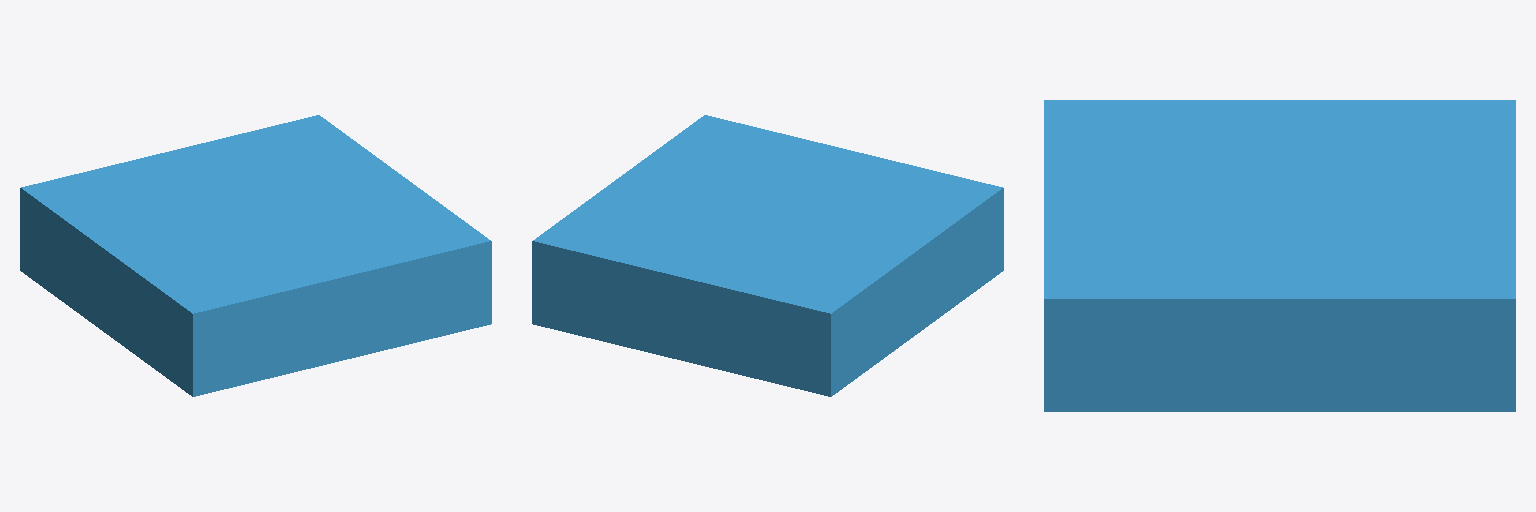
robot.urdf — pdd:
<?xml version="1.0" encoding="utf-8"?>
<!-- This URDF was automatically created by SolidWorks to URDF Exporter! Originally created by [author] ([email redacted]) 
     Commit Version: 1.6.0-4-g7f85cfe  Build Version: 1.6.7995.38578
     For more information, please see http://wiki.ros.org/sw_urdf_exporter -->
<robot name="pdd">

  <!-- <link name="world" />
  <joint name ="weld" type="fixed">
    <parent link="world"/>
    <child link="base_link"/>
    <origin xyz="0 0 0.1"/>
  </joint> -->
  <!-- <mujoco>
    <compiler meshdir="../meshes/" balanceinertia="true" discardvisual="false"/>
  </mujoco> -->

  <gazebo>
    <plugin name="gazebo_ros_control" filename="liblegged_hw_sim.so">
      <robotNamespace>/</robotNamespace>
      <robotParam>legged_robot_description</robotParam>
      <robotSimType>legged_gazebo/LeggedHWSim</robotSimType>
    </plugin>
  </gazebo>

  <gazebo>
    <plugin filename="libgazebo_ros_p3d.so" name="p3d_base_controller">
      <alwaysOn>true</alwaysOn>
      <updateRate>500.0</updateRate>
      <bodyName>base_link</bodyName>
      <topicName>ground_truth/state</topicName>
      <gaussianNoise>0</gaussianNoise>
      <frameName>world</frameName>
      <xyzOffsets>0 0 0</xyzOffsets>
      <rpyOffsets>0 0 0</rpyOffsets>
    </plugin>
  </gazebo>

  <link name="base_link">
    <inertial>
      <origin xyz="-0.010856 -0.000068 -0.007128" rpy="0 0 0" />
      <mass value="5.673631" />  
       <!-- <mass value="7.143631" />  -->
      <!-- <inertia ixx="0.034403" ixy="0.000004" ixz="-0.002587" iyy="0.029652" iyz="0.000024" izz="0.029462" /> -->
      <inertia ixx="0.034403" ixy="0.0" ixz="-0.0" iyy="0.029652" iyz="0.0" izz="0.029462" />

    </inertial>
    <visual>
      <origin xyz="0 0 0" rpy="0 0 0" />
      <geometry>
        <mesh 
        filename="../meshes/base_link.STL" />
      </geometry>
      <material name="">
        <color rgba="0.75294 0.75294 0.75294 1" />
      </material>
    </visual>
    <collision>
      <origin xyz="-0.01 0 -0.006" rpy="0 0 0" />
      <geometry>
        <box size="0.184 0.15 0.2" /><!--宽 长 高!-->
      </geometry>
    </collision>
  </link>

  <!-- Imu is fixed to the base link -->
  <joint name="imu_joint" type="fixed">
    <origin rpy="0. 0. 0." xyz="0. 0. 0"/>
    <parent link="base_link"/>
    <child link="imu_link"/>
  </joint>
  <!-- Imu link -->
  <link name="imu_link">
    <inertial>
      <mass value="0.01"/>
      <origin rpy="0 0 0" xyz="0 0 0"/>
      <inertia ixx="0.000001" ixy="0" ixz="0" iyy="0.000001" iyz="0" izz="0.000001"/>
    </inertial>
    <visual>
      <origin rpy="0 0 0" xyz="0 0 0"/>
      <geometry>
        <box size="0.015 0.015 0.004"/>
      </geometry>
    </visual>
    <material name="orange">
      <color rgba="255 108 10 255"/>
    </material>
  </link>
  <gazebo reference="imu_joint">
    <disableFixedJointLumping>true</disableFixedJointLumping>
  </gazebo>

  <!-- ************************************************************ -->
  <!-- ************************ Left Leg ************************** -->
  <!-- ************************************************************ -->

  <!-- ************* part 1 *************** -->
  <joint name="leg_l1_joint" type="revolute">
    <origin xyz="-0.002 0.09 -0.1035" rpy="0 0 0" />
    <parent link="base_link" />
    <child link="leg_l1_link" />
    <axis xyz="1 0 0" />
    <dynamics damping="0.0" friction="0.00" />
    <limit lower="-0.2" upper="0.5" effort="36" velocity="300" />
  </joint>
  <link name="leg_l1_link">
    <inertial>
      <origin xyz="0.002501 0.000053 -0.002722" rpy="0 0 0" />
      <mass value="0.453728" />
      <inertia ixx="0.000082" ixy="0.000000" ixz="0.000003" iyy="0.000163" iyz="0.000001" izz="0.000147" />
    </inertial>
    <visual>
      <origin xyz="0 0 0" rpy="0 0 0" />
      <geometry>
        <mesh filename="../meshes/leg_l1_link.STL" />
      </geometry>
      <material name="">
        <color rgba="0.75294 0.75294 0.75294 1" />
      </material>
    </visual>
    <!-- <collision>
      <origin xyz="-0.019 -0.001 0" rpy="1.57 0 1.57" />
      <geometry>
        <box size="0.06 0.07 0.155" />
      </geometry>
    </collision> -->
  </link>

  <!-- ************* part 2 *************** -->
  <joint name="leg_l2_joint" type="revolute">
    <origin xyz="0 -0.00016972 -0.0325" rpy="0 0 0" />
    <parent link="leg_l1_link" />
    <child link="leg_l2_link" />
    <axis xyz="0 0 1" />
    <dynamics damping="0.0" friction="0.00" />
    <limit lower="-0.5" upper="1" effort="36" velocity="300" />
  </joint>
  <link name="leg_l2_link">
    <inertial>
     <origin xyz="-0.000273 0.043826 -0.058639" rpy="0 0 0" />
      <mass value="0.925998" />
      <inertia ixx="0.001239" ixy="0.000004" ixz="0.000000" iyy="0.001646" iyz="0.000103" izz="0.001094" />
    </inertial>
    <visual>
      <origin xyz="0 0 0" rpy="0 0 0" />
      <geometry>
        <mesh filename="../meshes/leg_l2_link.STL" />
      </geometry>
      <material name="">
        <color rgba="0.75294 0.75294 0.75294 1" />
      </material>
    </visual>
    <collision>
      <origin xyz="0 0.0046 -0.057" rpy="1.57 0 0" />
      <geometry>
        <cylinder length="0.146" radius="0.065"/>
      </geometry>
    </collision>
  </link>

  <!-- ************* part 3 *************** -->
  <joint name="leg_l3_joint" type="revolute">
    <origin xyz="0 -0.01433 -0.0575" rpy="0 0 0" />
    <parent link="leg_l2_link" />
    <child link="leg_l3_link" />
    <axis xyz="0 1 0" />
    <dynamics damping="0.0" friction="0.00" />
    <limit lower="-0.8" upper="1.2" effort="94" velocity="300" />
  </joint>
  <link name="leg_l3_link">
    <inertial>
     <origin xyz="0.003163 -0.022552 -0.027258" rpy="0 0 0" />
      <mass value="1.390468" />
      <!-- <inertia ixx="0.006911" ixy="-0.000091" ixz="0.000427" iyy="0.007083" iyz="0.000844" izz="0.001984" /> -->
      <inertia ixx="0.006911" ixy="-0.000091" ixz="0.000427" iyy="0.007083" iyz="0.000844" izz="0.001984" />
    </inertial>
    <visual>
      <origin xyz="0 0 0" rpy="0 0 0" />
      <geometry>
        <mesh filename="../meshes/leg_l3_link.STL" />
      </geometry>
      <material name="">
        <color rgba="0.75294 0.75294 0.75294 1" />
      </material>
    </visual>
    <collision>
      <origin xyz="0.015 0.02 -0.1" rpy="1.57 0 0" />
      <geometry>
        <box size="0.06 0.25 0.05" />
      </geometry>
    </collision>
  </link>

  <!-- ************* part 4 *************** -->
  <joint name="leg_l4_joint" type="revolute">
    <origin xyz="0 0.0145 -0.24" rpy="0 0 0" />
    <parent link="leg_l3_link" />
    <child link="leg_l4_link" />
    <axis xyz="0 1 0" />
    <dynamics damping="0.0" friction="0.0" />
    <limit lower="0" upper="1.5" effort="94" velocity="300" />
  </joint>
  <link name="leg_l4_link">
    <inertial>
      <origin xyz="-0.012044 0.006361 -0.093905" rpy="0 0 0" />
      <mass value="0.649518" />
      <inertia ixx="0.002176" ixy="-0.000020" ixz="-0.000273" iyy="0.002460" iyz="-0.000095" izz="0.000478" />
    </inertial>
    <visual>
      <origin xyz="0 0 0" rpy="0 0 0" />
      <geometry>
        <mesh filename="../meshes/leg_l4_link.STL" />
      </geometry>
      <material name="">
        <color rgba="0.75294 0.75294 0.75294 1" />
      </material>
    </visual>
    <collision>
      <origin xyz="0 0 -0.105" rpy="1.57 0 0" />
      <geometry>
        <box size="0.041 0.25 0.03" />
      </geometry>
    </collision>
    <collision>
      <origin xyz="-0.011 0.012 -0.079" rpy="1.57 0 0" />
      <geometry>
        <cylinder length="0.07" radius="0.034"/>
      </geometry>
    </collision>
  </link>

  <!-- ************* part 5 *************** -->
  <joint name="leg_l5_joint" type="revolute">
    <origin xyz="0.005 0 -0.23995" rpy="0 0 0" />
    <parent link="leg_l4_link" />
    <child link="leg_l5_link" />
    <axis xyz="0 1 0" />
    <dynamics damping="0.0" friction="0.0" />
    <limit lower="-1.1" upper="1.1" effort="36" velocity="300" />
  </joint>
  <link name="leg_l5_link">
    <inertial>
      <origin xyz="0.012435 0.000000 -0.015511" rpy="0 0 0" />
      <mass value="0.090265" />
      <inertia ixx="1.5e-05" ixy="0.000000" ixz="0.00000" iyy="2.4e-04" iyz="0.000000" izz="2.4e-04" />
    </inertial>
    <visual>
      <origin xyz="0 0 0" rpy="0 0 0" />
      <geometry>
        <mesh filename="../meshes/leg_l5_link.STL" />
      </geometry>
      <material name="">
        <color rgba="0.75294 0.75294 0.75294 1" />
      </material>
    </visual>
    <collision>
      <!-- <origin xyz="0.01503 0 -0.0102" rpy="1.57 0 0" />
      <geometry>
        <box size="0.1001 0.0345 0.0175" />
      </geometry> -->
      <!-- <origin xyz="0 0 0" rpy="0 0 0" />
      <geometry>
        <mesh filename="../meshes/leg_l5_link.STL" />
      </geometry> -->
      <!-- <origin xyz="0.01503 0 -0.02" rpy="0 1.57 0" />
      <geometry>
        <cylinder length="0.1" radius="0.008"/>
      </geometry> -->

      <origin xyz="0.0203 0 -0.02" rpy="0 1.57 0" />
      <geometry>
        <cylinder length="0.14" radius="0.008"/>
      </geometry>
    </collision>
  </link>

  <gazebo reference="leg_l1_link">
    <mu1>0.6</mu1>
    <mu2>0.6</mu2>
    <self_collide>1</self_collide>
  </gazebo>
  <gazebo reference="leg_l2_link">
    <mu1>0.6</mu1>
    <mu2>0.6</mu2>
    <self_collide>1</self_collide>
  </gazebo>
  <gazebo reference="leg_l3_link">
    <mu1>0.6</mu1>
    <mu2>0.6</mu2>
    <self_collide>1</self_collide>
  </gazebo>
  <gazebo reference="leg_l4_link">
    <mu1>0.6</mu1>
    <mu2>0.6</mu2>
    <self_collide>1</self_collide>
  </gazebo>
  <gazebo reference="leg_l5_link">
    <mu1>1.5</mu1>
    <mu2>1.5</mu2>
    <self_collide>1</self_collide>
    <kp value="1000000.0"/>
    <kd value="100.0"/>
    <!-- <fdir1>1 0 0</fdir1> -->
    <maxVel>1.0</maxVel>
    <minDepth>0.00</minDepth>
  </gazebo>
  <gazebo reference="leg_l_f1_link">
    <mu1>1.5</mu1>
    <mu2>1.5</mu2>
    <self_collide>1</self_collide>
    <kp value="1000000.0"/>
    <kd value="100.0"/>
    <!-- <fdir1>1 0 0</fdir1> -->
    <maxVel>1.0</maxVel>
    <minDepth>0.00</minDepth>
  </gazebo>
  <gazebo reference="leg_l_f2_link">
    <mu1>1.5</mu1>
    <mu2>1.5</mu2>
    <self_collide>1</self_collide>
    <kp value="1000000.0"/>
    <kd value="100.0"/>
    <!-- <fdir1>1 0 0</fdir1> -->
    <maxVel>1.0</maxVel>
    <minDepth>0.00</minDepth>
  </gazebo>

  <transmission name="leg_l1_tran">
    <type>transmission_interface/SimpleTransmission</type>
    <joint name="leg_l1_joint">
      <hardwareInterface>hardware_interface/EffortJointInterface</hardwareInterface>
    </joint>
    <actuator name="leg_l1_motor">
      <hardwareInterface>hardware_interface/EffortJointInterface</hardwareInterface>
      <mechanicalReduction>1</mechanicalReduction>
    <maxVelocity>1.484</maxVelocity><!-- 85rpm -->
	  <maxEffort>36.0</maxEffort><!-- 36Nm -->
    </actuator>
  </transmission>

  <transmission name="leg_l2_tran">
    <type>transmission_interface/SimpleTransmission</type>
    <joint name="leg_l2_joint">
      <hardwareInterface>hardware_interface/EffortJointInterface</hardwareInterface>
    </joint>
    <actuator name="leg_l2_motor">
      <hardwareInterface>hardware_interface/EffortJointInterface</hardwareInterface>
      <mechanicalReduction>1</mechanicalReduction>
    <maxVelocity>2.6545</maxVelocity><!-- 160rpm -->
	  <maxEffort>94.0</maxEffort><!-- 94Nm -->
    </actuator>
  </transmission>

  <transmission name="leg_l3_tran">
    <type>transmission_interface/SimpleTransmission</type>
    <joint name="leg_l3_joint">
      <hardwareInterface>hardware_interface/EffortJointInterface</hardwareInterface>
    </joint>
    <actuator name="leg_l3_motor">
      <hardwareInterface>hardware_interface/EffortJointInterface</hardwareInterface>
      <mechanicalReduction>1</mechanicalReduction>
    <maxVelocity>2.6545</maxVelocity><!-- 160rpm -->
	  <maxEffort>94.0</maxEffort><!-- 94Nm -->
    </actuator>
  </transmission>

  <transmission name="leg_l4_tran">
    <type>transmission_interface/SimpleTransmission</type>
    <joint name="leg_l4_joint">
      <hardwareInterface>hardware_interface/EffortJointInterface</hardwareInterface>
    </joint>
    <actuator name="leg_l4_motor">
      <hardwareInterface>hardware_interface/EffortJointInterface</hardwareInterface>
      <mechanicalReduction>1</mechanicalReduction>
    <maxVelocity>1.484</maxVelocity><!-- 85rpm -->
	<maxEffort>36.0</maxEffort><!-- 36Nm -->
    </actuator>
  </transmission>

  <transmission name="leg_l5_tran">
    <type>transmission_interface/SimpleTransmission</type>
    <joint name="leg_l5_joint">
      <hardwareInterface>hardware_interface/EffortJointInterface</hardwareInterface>
    </joint>
    <actuator name="leg_l5_motor">
      <hardwareInterface>hardware_interface/EffortJointInterface</hardwareInterface>
      <mechanicalReduction>1</mechanicalReduction>
    </actuator>
  </transmission>
  <!-- ************************************************************ -->
  <!-- ************************ Right Leg ************************** -->
  <!-- ************************************************************ -->

  <!-- ************* part 1 *************** -->
  <joint name="leg_r1_joint" type="revolute">
    <origin xyz="-0.002 -0.09 -0.1035" rpy="0 0 0" />
    <parent link="base_link" />
    <child link="leg_r1_link" />
    <axis xyz="1 0 0" />
    <dynamics damping="0.0" friction="0.00" />
    <limit lower="-0.5" upper="0.2" effort="36" velocity="300" />
  </joint>
  <link name="leg_r1_link">
    <inertial>
      <origin xyz="0.002501 -0.000053 -0.002722" rpy="0 0 0" />
      <mass value="0.453728" />
      <inertia ixx="0.000082" ixy="0.000000" ixz="0.000003" iyy="0.000163" iyz="-0.000001" izz="0.000147" />
    </inertial>
    <visual>
      <origin xyz="0 0 0" rpy="0 0 0" />
      <geometry>
        <mesh filename="../meshes/leg_r1_link.STL" />
      </geometry>
      <material name="">
        <color rgba="0.75294 0.75294 0.75294 1" />
      </material>
    </visual>
    <!-- <collision>
      <origin xyz="-0.019 -0.001 0" rpy="1.57 0 1.57" />
      <geometry>
        <box size="0.06 0.07 0.155" />
      </geometry>
    </collision> -->
  </link>

  <!-- ************* part 2 *************** -->
  <joint name="leg_r2_joint" type="revolute">
    <origin xyz="0 0.00016972 -0.0325" rpy="0 0 0" />
    <parent link="leg_r1_link" />
    <child link="leg_r2_link" />
    <axis xyz="0 0 1" />
    <dynamics damping="0.0" friction="0.00" />
    <limit lower="-1" upper="0.5" effort="36" velocity="300" />
  </joint>
  <link name="leg_r2_link">
    <inertial>
     <origin xyz="0.000090 -0.043826 -0.058639" rpy="0 0 0" />
      <mass value="0.925998" />
      <inertia ixx="0.001239" ixy="0.000004" ixz="0.000000" iyy="0.001646" iyz="-0.000103" izz="0.001094" />
    </inertial>
    <visual>
      <origin xyz="0 0 0" rpy="0 0 0" />
      <geometry>
        <mesh filename="../meshes/leg_r2_link.STL" />
      </geometry>
      <material name="">
        <color rgba="0.75294 0.75294 0.75294 1" />
      </material>
    </visual>
    <collision>
      <origin xyz="0 -0.0033 -0.057" rpy="1.57 0 0" />
      <geometry>
        <cylinder length="0.146" radius="0.065"/>
      </geometry>
    </collision>
  </link>

  <!-- ************* part 3 *************** -->
  <joint name="leg_r3_joint" type="revolute">
    <origin xyz="0 0.01633 -0.0575" rpy="0 0 0" />
    <parent link="leg_r2_link" />
    <child link="leg_r3_link" />
    <axis xyz="0 1 0" />
    <dynamics damping="0.0" friction="0.00" />
    <limit lower="-0.8" upper="1.2" effort="94" velocity="300" />
  </joint>
  <link name="leg_r3_link">
    <inertial>
     <origin xyz="0.003311 0.022650 -0.027271" rpy="0 0 0" />
      <mass value="1.388625" />
      <inertia ixx="0.006909" ixy="0.000095" ixz="0.000421" iyy="0.007083" iyz="-0.000850" izz="0.001984" />
    </inertial>
    <visual>
      <origin xyz="0 0 0" rpy="0 0 0" />
      <geometry>
        <mesh filename="../meshes/leg_r3_link.STL" />
      </geometry>
      <material name="">
        <color rgba="0.75294 0.75294 0.75294 1" />
      </material>
    </visual>
    <collision>
      <origin xyz="0.015 -0.02 -0.1" rpy="1.57 0 0" />
      <geometry>
        <box size="0.06 0.25 0.05" />
      </geometry>
    </collision>
  </link>

  <!-- ************* part 4 *************** -->
  <joint name="leg_r4_joint" type="revolute">
    <origin xyz="0 -0.0145 -0.24" rpy="0 0 0" />
    <parent link="leg_r3_link" />
    <child link="leg_r4_link" />
   <axis xyz="0 1 0" />
   <dynamics damping="0.0" friction="0.0" />
    <limit lower="0" upper="1.5" effort="94" velocity="300" />
  </joint>
  <link name="leg_r4_link">
    <inertial>
       <origin xyz="-0.007886 -0.007123 -0.088091" rpy="0 0 0" />
      <mass value="0.614720" />
      <!-- <inertia ixx="0.001761" ixy="-0.000006" ixz="0.000012" iyy="0.001774" iyz="0.000063" izz="0.000186" /> -->
      <inertia ixx="0.002176" ixy="-0.000020" ixz="-0.000273" iyy="0.002460" iyz="0.000095" izz="0.000478" />

    </inertial>
    <visual>
      <origin xyz="0 0 0" rpy="0 0 0" />
      <geometry>
        <mesh filename="../meshes/leg_r4_link.STL" />
      </geometry>
      <material name="">
        <color rgba="0.75294 0.75294 0.75294 1" />
      </material>
    </visual>
    <collision>
      <origin xyz="0 0 -0.105" rpy="1.57 0 0" />
      <geometry>
        <box size="0.041 0.25 0.03" />
      </geometry>
    </collision>
    <collision>
      <origin xyz="-0.011 -0.012 -0.079" rpy="1.57 0 0" />
      <geometry>
        <cylinder length="0.07" radius="0.034"/>
      </geometry>
    </collision>
  </link>

  <!-- ************* part 5 *************** -->
  <joint name="leg_r5_joint" type="revolute">
    <origin xyz="0.005 0 -0.23995" rpy="0 0 0" />
    <parent link="leg_r4_link" />
    <child link="leg_r5_link" />
    <axis xyz="0 1 0" />
    <dynamics damping="0.0" friction="0.0" />
    <limit lower="-1.1" upper="1.1" effort="36" velocity="300" />
  </joint>
  <link name="leg_r5_link">
    <inertial>
      <origin xyz="0.012435 -0.0 -0.015511" rpy="0 0 0" />
      <mass value="0.090265" />
      <inertia ixx="1.5e-05" ixy="0.000000" ixz="0.00000" iyy="2.4e-04" iyz="0.000000" izz="2.4e-04" />
    </inertial>
    <visual>
      <origin xyz="0 0 0" rpy="0 0 0" />
      <geometry>
        <mesh filename="../meshes/leg_r5_link.STL" />
      </geometry>
      <material name="">
        <color rgba="0.75294 0.75294 0.75294 1" />
      </material>
    </visual>
    <collision>
      <!-- <origin xyz="0.01503 0 -0.0102" rpy="1.57 0 0" />
      <geometry>
        <box size="0.1001 0.0345 0.0175" />
        </geometry> -->
      <!-- <origin xyz="0 0 0" rpy="0 0 0" />
      <geometry>
        <mesh filename="../meshes/leg_r5_link.STL" />
      </geometry> -->

      <!-- <origin xyz="0.01503 0 -0.02" rpy="0 1.57 0" />
      <geometry>
        <cylinder length="0.1" radius="0.008"/>
      </geometry> -->
      
      <origin xyz="0.0203 0 -0.02" rpy="0 1.57 0" />
      <geometry>
        <cylinder length="0.14" radius="0.008"/>
      </geometry>
    </collision>
  </link>


  <gazebo reference="leg_r1_link">
    <mu1>0.6</mu1>
    <mu2>0.6</mu2>
    <self_collide>1</self_collide>
  </gazebo>
  <gazebo reference="leg_r2_link">
    <mu1>0.6</mu1>
    <mu2>0.6</mu2>
    <self_collide>1</self_collide>
  </gazebo>
  <gazebo reference="leg_r3_link">
    <mu1>0.6</mu1>
    <mu2>0.6</mu2>
    <self_collide>1</self_collide>
  </gazebo>
  <gazebo reference="leg_r4_link">
    <mu1>0.6</mu1>
    <mu2>0.6</mu2>
    <self_collide>1</self_collide>
  </gazebo>
  <gazebo reference="leg_r5_link">
    <mu1>1.5</mu1>
    <mu2>1.5</mu2>
    <self_collide>1</self_collide>
    <kp value="1000000.0"/>
    <kd value="100.0"/>
    <!-- <fdir1>1 0 0</fdir1> -->
    <maxVel>1.0</maxVel>
    <minDepth>0.00</minDepth>
  </gazebo>
  <gazebo reference="leg_r_f1_link">
    <mu1>1.5</mu1>
    <mu2>1.5</mu2>
    <self_collide>1</self_collide>
    <kp value="1000000.0"/>
    <kd value="100.0"/>
    <!-- <fdir1>1 0 0</fdir1> -->
    <maxVel>1.0</maxVel>
    <minDepth>0.00</minDepth>
  </gazebo>
  <gazebo reference="leg_r_f2_link">
    <mu1>1.5</mu1>
    <mu2>1.5</mu2>
    <self_collide>1</self_collide>
    <kp value="1000000.0"/>
    <kd value="100.0"/>
    <!-- <fdir1>1 0 0</fdir1> -->
    <maxVel>1.0</maxVel>
    <minDepth>0.00</minDepth>
  </gazebo>

  <transmission name="leg_r1_tran">
    <type>transmission_interface/SimpleTransmission</type>
    <joint name="leg_r1_joint">
      <hardwareInterface>hardware_interface/EffortJointInterface</hardwareInterface>
    </joint>
    <actuator name="leg_r1_motor">
      <hardwareInterface>hardware_interface/EffortJointInterface</hardwareInterface>
      <mechanicalReduction>1</mechanicalReduction>
      	  <maxVelocity>1.484</maxVelocity><!-- 85rpm -->
	<maxEffort>36.0</maxEffort><!-- 36Nm -->
    </actuator>
  </transmission>

  <transmission name="leg_r2_tran">
    <type>transmission_interface/SimpleTransmission</type>
    <joint name="leg_r2_joint">
      <hardwareInterface>hardware_interface/EffortJointInterface</hardwareInterface>
    </joint>
    <actuator name="leg_r2_motor">
      <hardwareInterface>hardware_interface/EffortJointInterface</hardwareInterface>
      <mechanicalReduction>1</mechanicalReduction>
      	  <maxVelocity>2.6545</maxVelocity><!-- 160rpm -->
	  <maxEffort>94.0</maxEffort><!-- 94Nm -->
    </actuator>
  </transmission>

  <transmission name="leg_r3_tran">
    <type>transmission_interface/SimpleTransmission</type>
    <joint name="leg_r3_joint">
      <hardwareInterface>hardware_interface/EffortJointInterface</hardwareInterface>
    </joint>
    <actuator name="leg_r3_motor">
      <hardwareInterface>hardware_interface/EffortJointInterface</hardwareInterface>
      <mechanicalReduction>1</mechanicalReduction>
      	  <maxVelocity>2.6545</maxVelocity><!-- 160rpm -->
	  <maxEffort>94.0</maxEffort><!-- 94Nm -->
    </actuator>
  </transmission>

  <transmission name="leg_r4_tran">
    <type>transmission_interface/SimpleTransmission</type>
    <joint name="leg_r4_joint">
      <hardwareInterface>hardware_interface/EffortJointInterface</hardwareInterface>
    </joint>
    <actuator name="leg_r4_motor">
      <hardwareInterface>hardware_interface/EffortJointInterface</hardwareInterface>
      <mechanicalReduction>1</mechanicalReduction>
      	  <maxVelocity>1.484</maxVelocity><!-- 85rpm -->
	<maxEffort>36.0</maxEffort><!-- 36Nm -->
    </actuator>
  </transmission>

  <transmission name="leg_r5_tran">
    <type>transmission_interface/SimpleTransmission</type>
    <joint name="leg_r5_joint">
      <hardwareInterface>hardware_interface/EffortJointInterface</hardwareInterface>
    </joint>
    <actuator name="leg_r5_motor">
      <hardwareInterface>hardware_interface/EffortJointInterface</hardwareInterface>
      <mechanicalReduction>1</mechanicalReduction>
    </actuator>
  </transmission>

</robot>

--- Render facts (derived) ---
Views: 3 orthographic renders of the robot side by side, from view 1: azimuth 30°, elevation 25°; view 2: azimuth 150°, elevation 25°; view 3: azimuth 270°, elevation 25°.
Robot: pdd — 12 links, 11 joints (10 revolute, 1 fixed); root link base_link; default pose: all joints at 0.
Links seen in each view (by area): view 1: imu_link; view 2: imu_link; view 3: imu_link.
Boxes of the visible links, bbox=[...] form: imu_link: bbox=[20, 115, 491, 396]; imu_link: bbox=[532, 115, 1003, 396]; imu_link: bbox=[1044, 100, 1515, 411].
Bounding box of the posed robot: 0.015 × 0.015 × 0.004 m (x, y, z).
Meshes: 11 distinct files referenced, 0 mesh visuals loaded (none loaded); not drawn: 11 (reference not matched to a file when rendering).